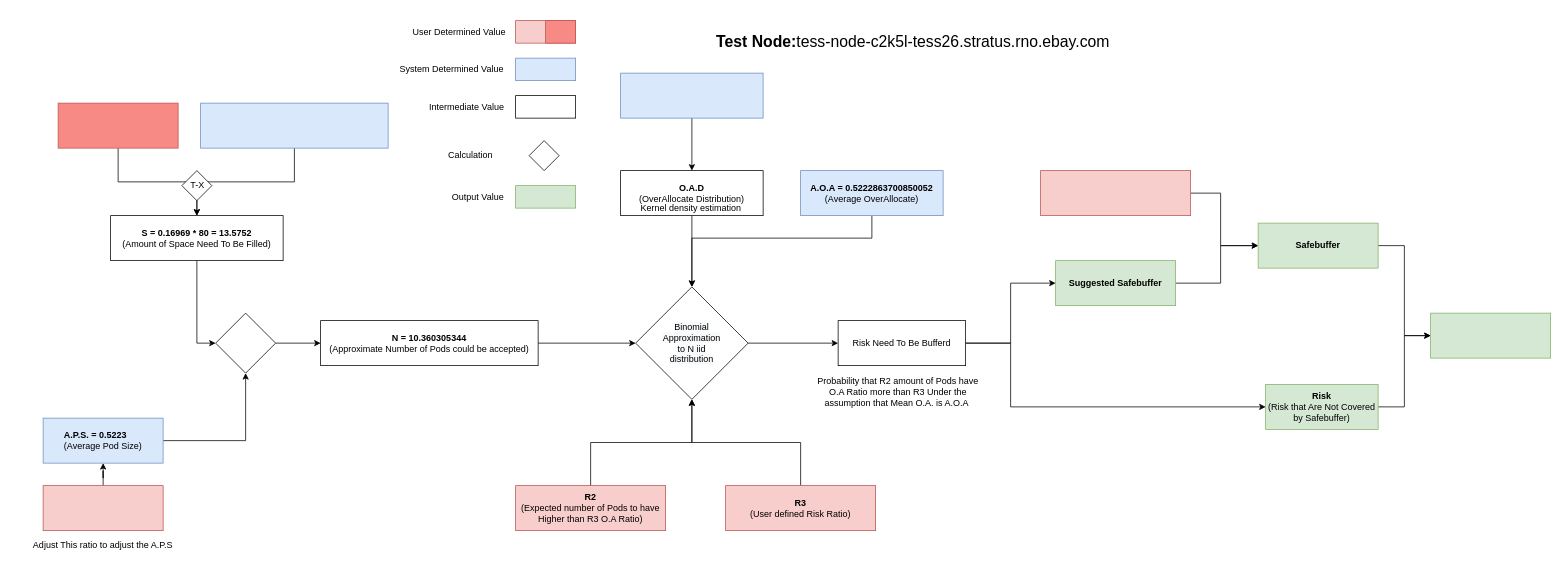
Image size: 1564x566. Some labels were removed from this diagram. Here are the shapes that lost their labels. From the top down, the centre of each, then its label:
the point at 691,95: O.A.H (OverAllocate Histogram)
the point at 117,125: T = 0.9 (Target "Real" Usage)
the point at 294,125: X = 0.73031 (Current Max CPU Usage for Last 30 days)
the point at 1115,193: Global Safebuffer (Optional)
the point at 245,342: S / A.P.S
the point at 1490,335: Amount of Saving
the point at 102,508: R1 = 0.66 (Risk Coefficient 1)
